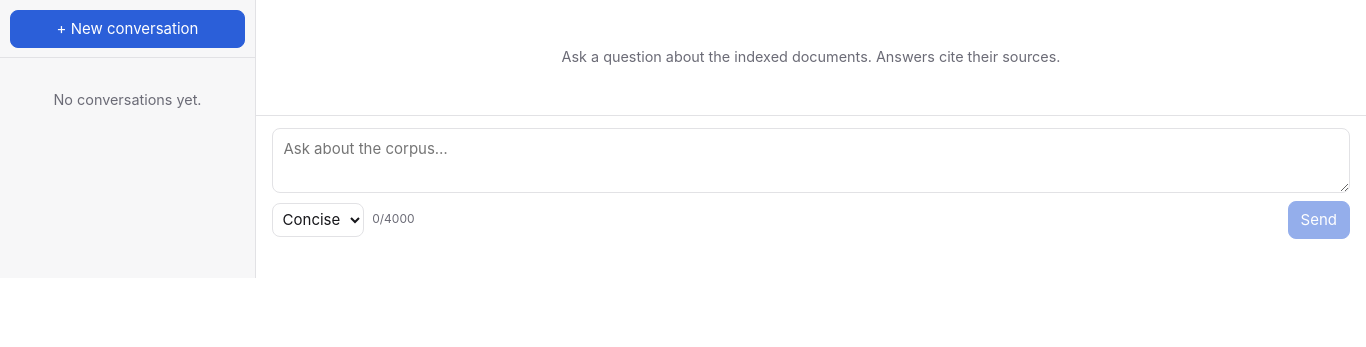
Scenario: ChatPage › streams tokens into the assistant turn
The width and height of the screenshot is (1366, 347).
Type "What is the refund window?" into the text box named "Message". click: (811, 160)
box: [272, 128, 1350, 193]
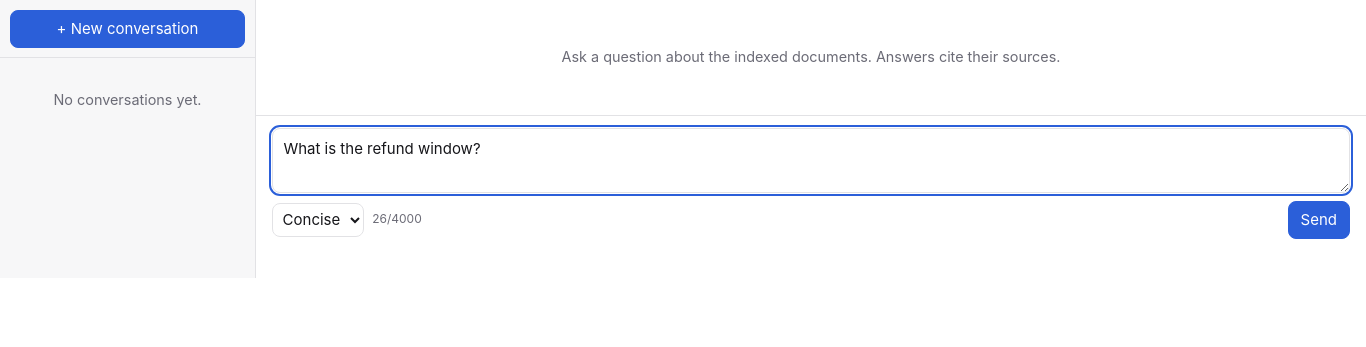
Click the button "Send". click: (1319, 220)
box: [1288, 201, 1350, 239]
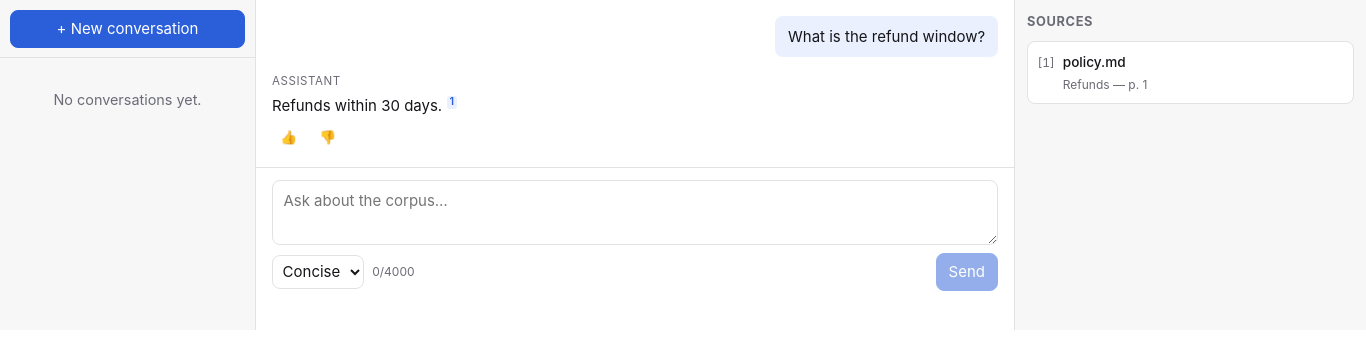
Expected: the element with test id "assistant-turn" shows "Refunds within 30 days. 1", [272, 73, 457, 151]
